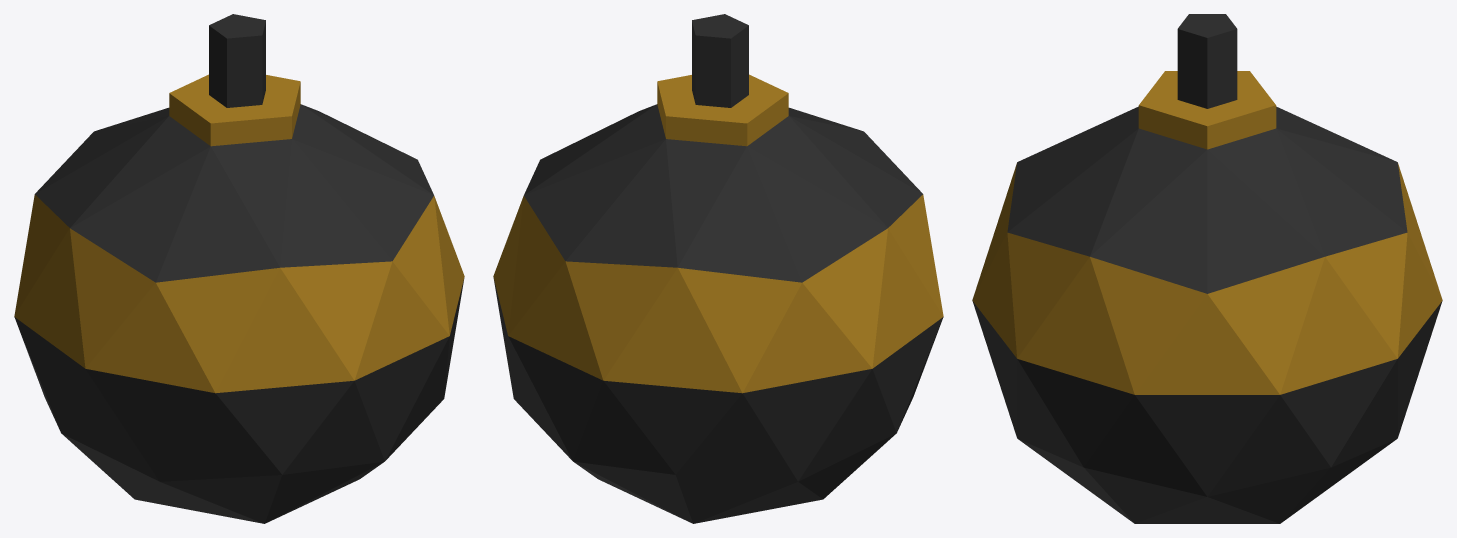
File: bomb.dae
The picture shows the model from 3 angles, left to right: view 1: azimuth 30°, elevation 25°; view 2: azimuth 150°, elevation 25°; view 3: azimuth 270°, elevation 25°; orthographic projection. The views are drawn at different scales.
Parts seen in each view (by area): view 1: Icosphere; view 2: Icosphere; view 3: Icosphere.
Boxes of the visible parts, x1=… form: Icosphere: x1=14, y1=14, x2=464, y2=523; Icosphere: x1=493, y1=14, x2=943, y2=523; Icosphere: x1=972, y1=14, x2=1442, y2=523.
Size of the model in its own units: 0.7636 by 0.8029 by 0.8606.
